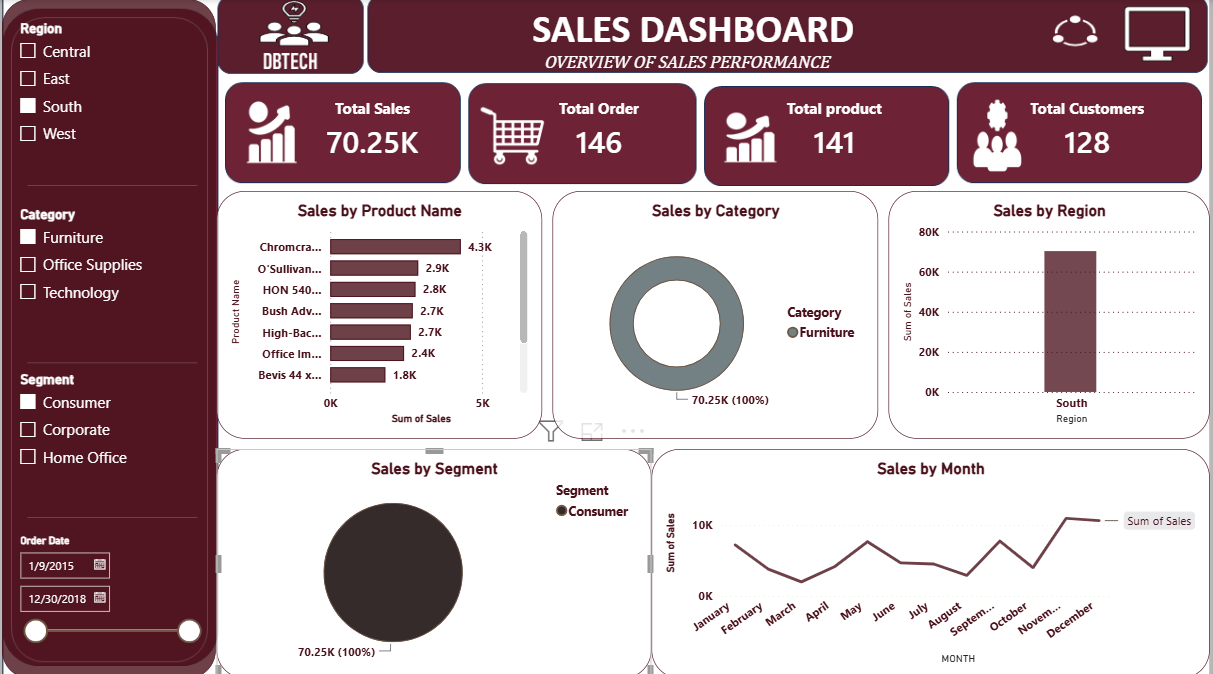

What the dashboard file says about the page in this screenshot:
{"tool":"powerbi","page":{"name":"Page 3","canvas":[1280,720],"ordinal":2},"visuals":[{"type":"textbox","box":[0,0,226.7,720.6],"z":0},{"type":"lineChart","title":"Sales by Month ","fields":{"Category":["PORT.MONTH"],"Y":["Sum(PORT.Sales)"]},"box":[688.7,477.2,591.7,243.4],"z":1000},{"type":"pieChart","title":"Sales by Segment","fields":{"Category":["PORT.Segment"],"Y":["Sum(PORT.Sales)"]},"box":[227.5,477.2,461.3,243.4],"z":2000},{"type":"clusteredBarChart","title":" Sales by Product Name","fields":{"Category":["PORT.Product Name"],"Y":["Sum(PORT.Sales)"]},"box":[227.5,203.6,345.2,262.5],"z":3000},{"type":"donutChart","title":" Sales by Category","fields":{"Category":["PORT.Category"],"Y":["Sum(PORT.Sales)"]},"box":[583.8,203.6,345.2,262.5],"z":4000},{"type":"clusteredColumnChart","title":" Sales by Region","fields":{"Category":["PORT.Region"],"Y":["Sum(PORT.Sales)"]},"box":[940.1,203.6,340.4,262.5],"z":5000},{"type":"slicer","fields":{"Values":["PORT.Category"]},"box":[6.4,214.7,213.1,159.1],"z":6000},{"type":"slicer","fields":{"Values":["PORT.Region"]},"box":[6.4,17.5,213.1,171.8],"z":7000},{"type":"slicer","fields":{"Values":["PORT.Order Date"]},"box":[6.4,563.1,213.1,140],"z":8000},{"type":"cardVisual","fields":{"Data":["PORT.Total Sales"]},"box":[276.8,87.5,232.2,101.8],"z":9000},{"type":"cardVisual","fields":{"Data":["PORT.Total Order"]},"box":[509,87.5,248.1,101.8],"z":10000},{"type":"cardVisual","fields":{"Data":["PORT.Total Customers"]},"box":[1021.2,87.5,259.3,101.8],"z":11000},{"type":"cardVisual","fields":{"Data":["PORT.Total product"]},"box":[757.1,87.5,251.3,101.8],"z":12000},{"type":"slicer","fields":{"Values":["PORT.Segment"]},"box":[6.4,389.7,213.1,151.1],"z":13000},{"type":"textbox","box":[400.8,0,558.3,87.5],"z":14000}]}

Visuals, with their boxes on the page's 1280x720 design canvas (x1, y1, x2, y2). These are canvas units, not pixel positions in the 1213x674 screenshot, which may show the page scaled, cropped or inside an application window:
textbox: detection(0, 0, 227, 721)
"Sales by Month " lineChart: detection(689, 477, 1280, 721)
"Sales by Segment" pieChart: detection(228, 477, 689, 721)
" Sales by Product Name" clusteredBarChart: detection(228, 204, 573, 466)
" Sales by Category" donutChart: detection(584, 204, 929, 466)
" Sales by Region" clusteredColumnChart: detection(940, 204, 1280, 466)
slicer - PORT.Category: detection(6, 215, 220, 374)
slicer - PORT.Region: detection(6, 18, 220, 189)
slicer - PORT.Order Date: detection(6, 563, 220, 703)
cardVisual - PORT.Total Sales: detection(277, 88, 509, 189)
cardVisual - PORT.Total Order: detection(509, 88, 757, 189)
cardVisual - PORT.Total Customers: detection(1021, 88, 1280, 189)
cardVisual - PORT.Total product: detection(757, 88, 1008, 189)
slicer - PORT.Segment: detection(6, 390, 220, 541)
textbox: detection(401, 0, 959, 88)
